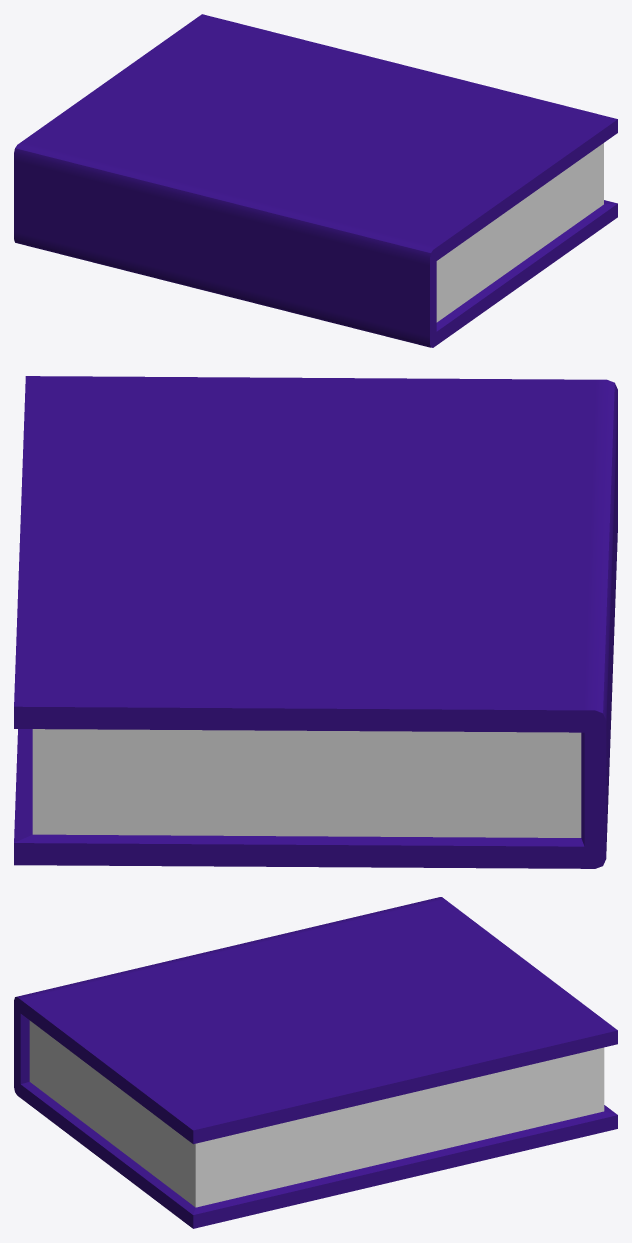
File: book.fbx
The picture shows the model from 3 angles, top to bottom: view 1: azimuth 30°, elevation 25°; view 2: azimuth 150°, elevation 25°; view 3: azimuth 270°, elevation 25°; orthographic projection. The views are drawn at different scales.
Parts seen in each view (by area): view 1: pCube1.003; view 2: pCube1.003; view 3: pCube1.003.
Part boxes in pixels (x1,y1,x2,y2): pCube1.003: (14, 14, 617, 347); pCube1.003: (14, 376, 617, 868); pCube1.003: (14, 897, 617, 1228).
Bounding box in the file's own units: 50.66 × 9.86 × 54.81.
